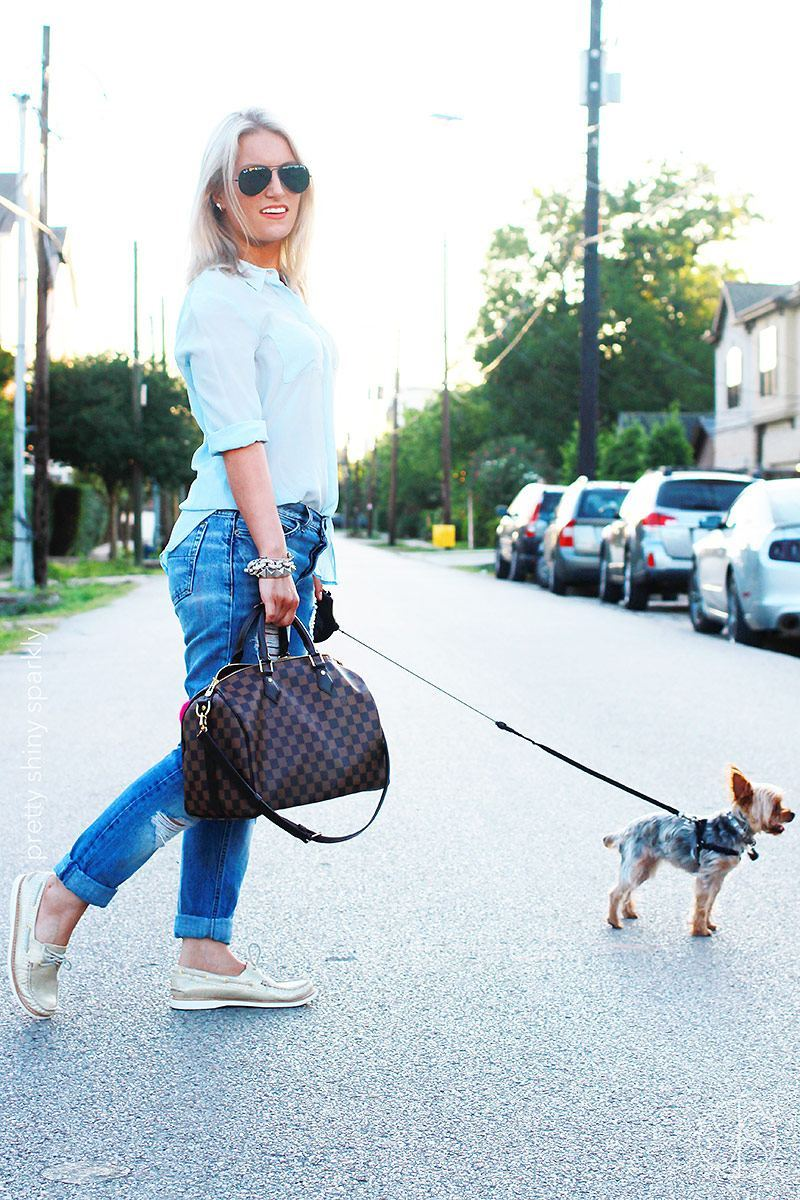jeans: (67, 500, 323, 924)
sunglasses: (235, 163, 312, 194)
